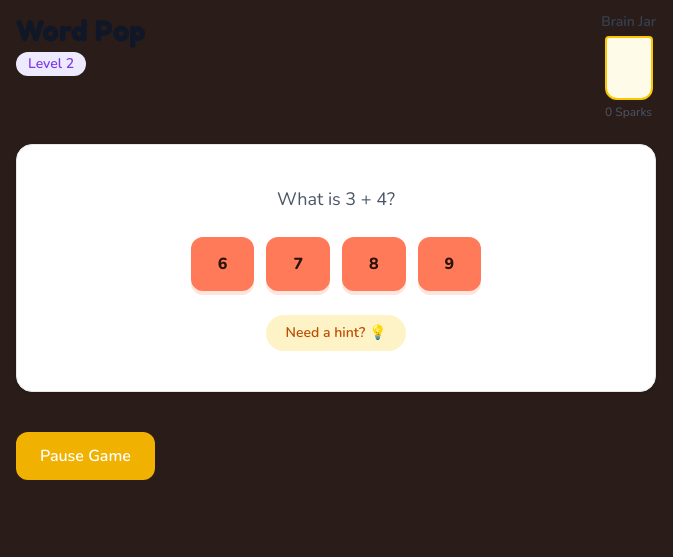
GameplayPage — Story 8.2 AI features › hint-text appears in the document after clicking hint-button (AC3)
The width and height of the screenshot is (673, 557).
# fireEvent is synchronous — wrap in act so React flushes fetch → setState
Click the button with test id "hint-button".
click(336, 333)  # box [266, 315, 406, 351]
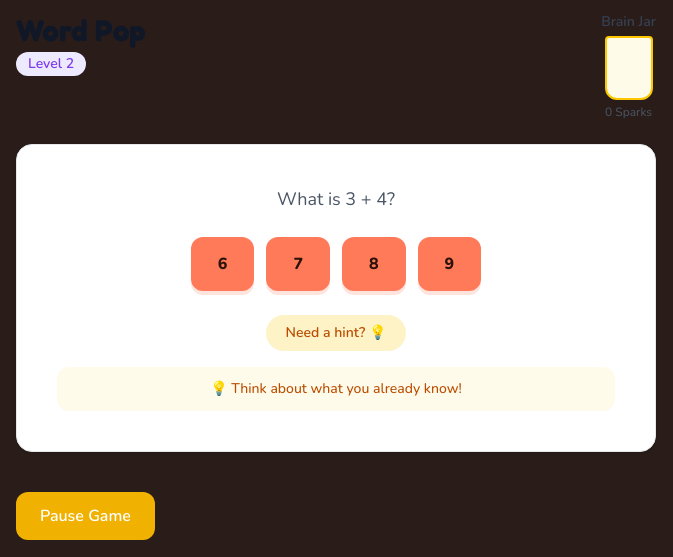
Expected: the text "💡 Think about what you already know!" is shown, [57, 367, 615, 411]
